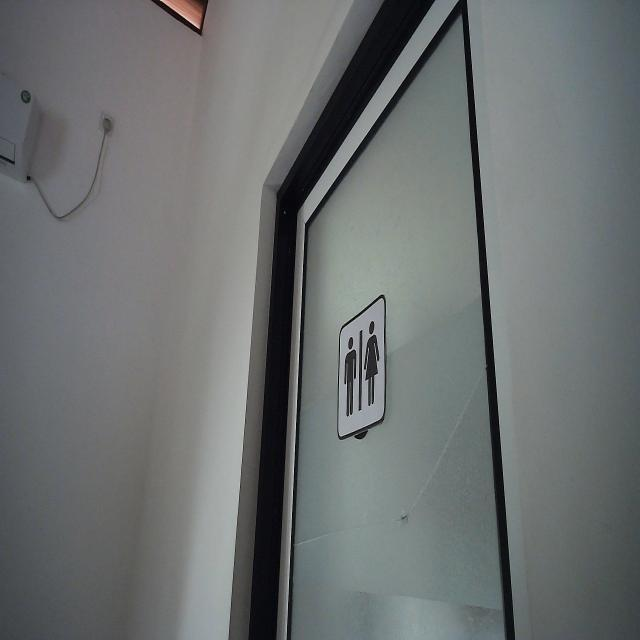restroom: (336, 294, 388, 441)
